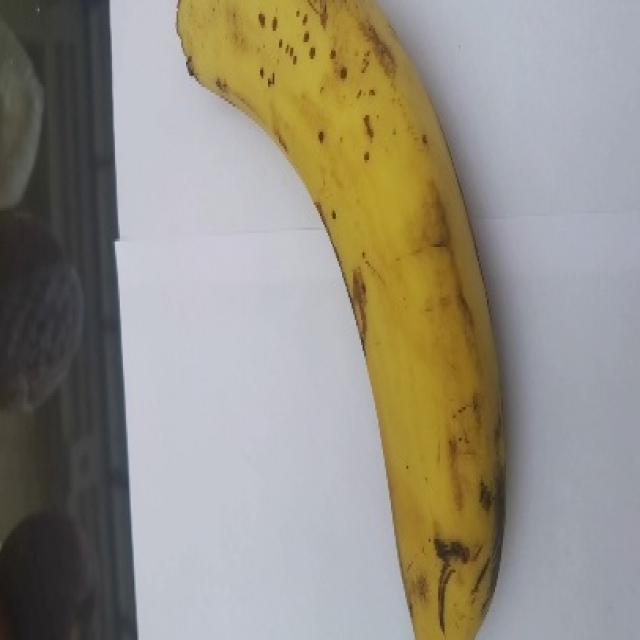Banana: (174, 0, 511, 636)
